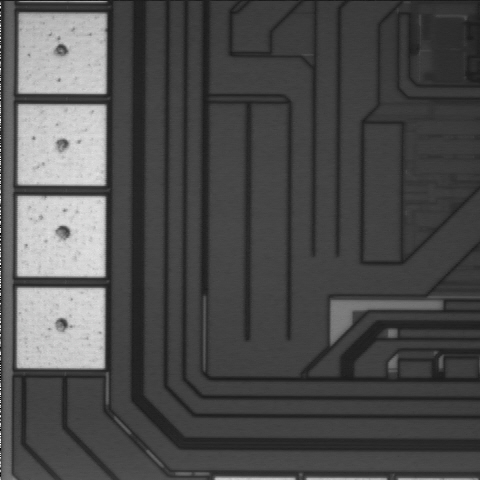pad: (18, 196, 105, 277), (19, 14, 106, 94), (18, 105, 105, 185), (17, 288, 104, 368)
